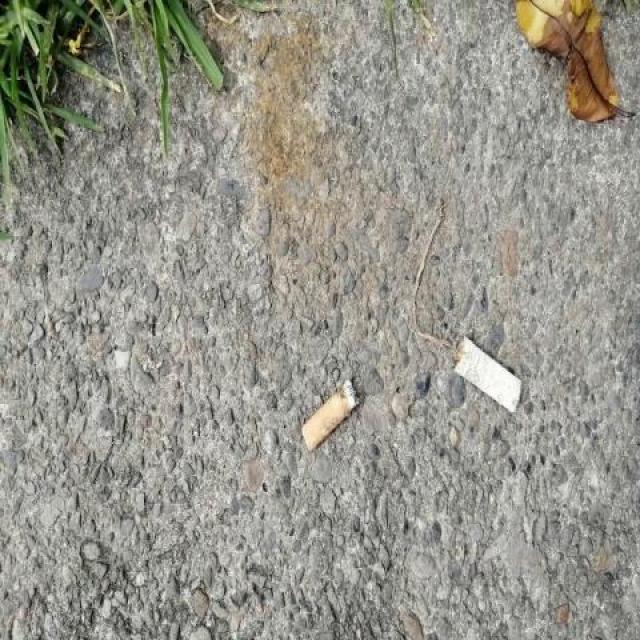non-organic waste: (444, 330, 524, 415), (296, 376, 364, 456)
